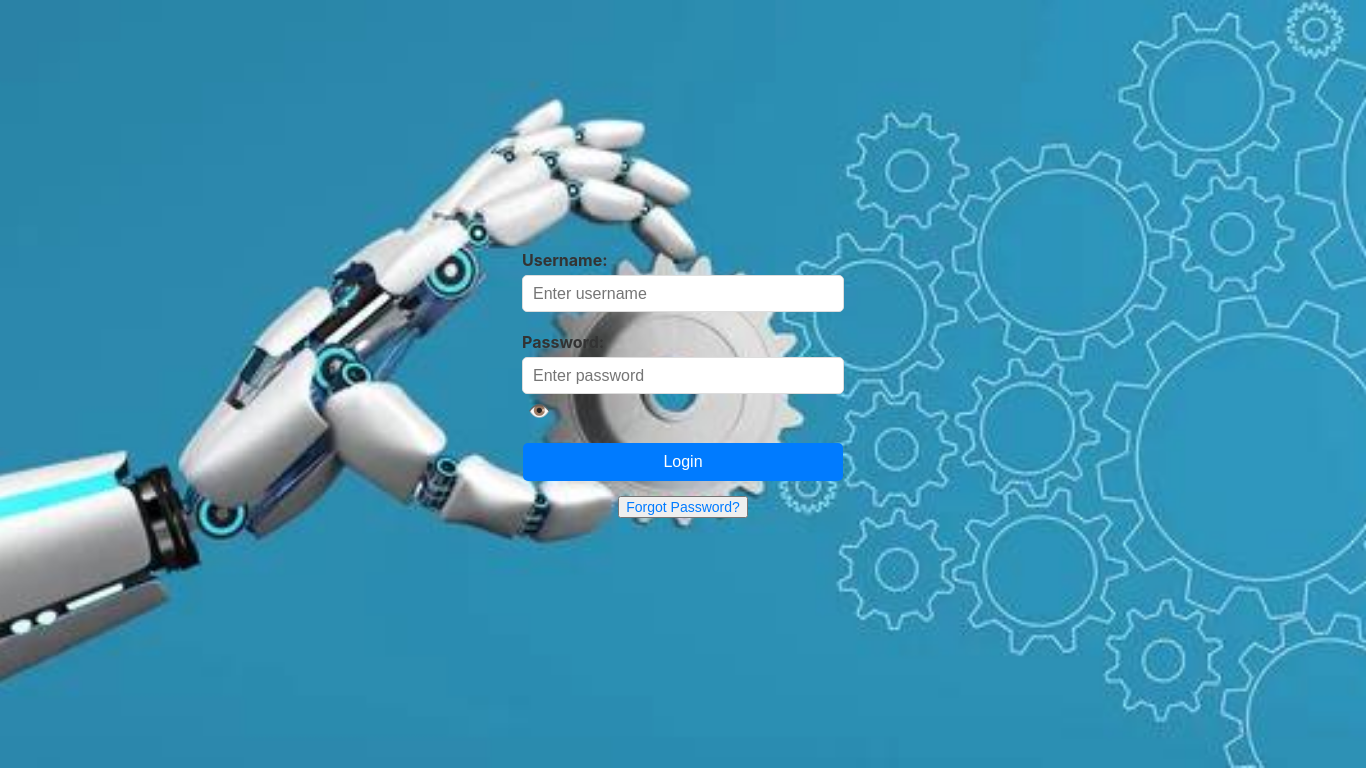
Test: Login Component › validates input fields are not empty
The image size is (1366, 768).
Step 1. Click the button "Login" → (683, 462), box [523,443,843,481]
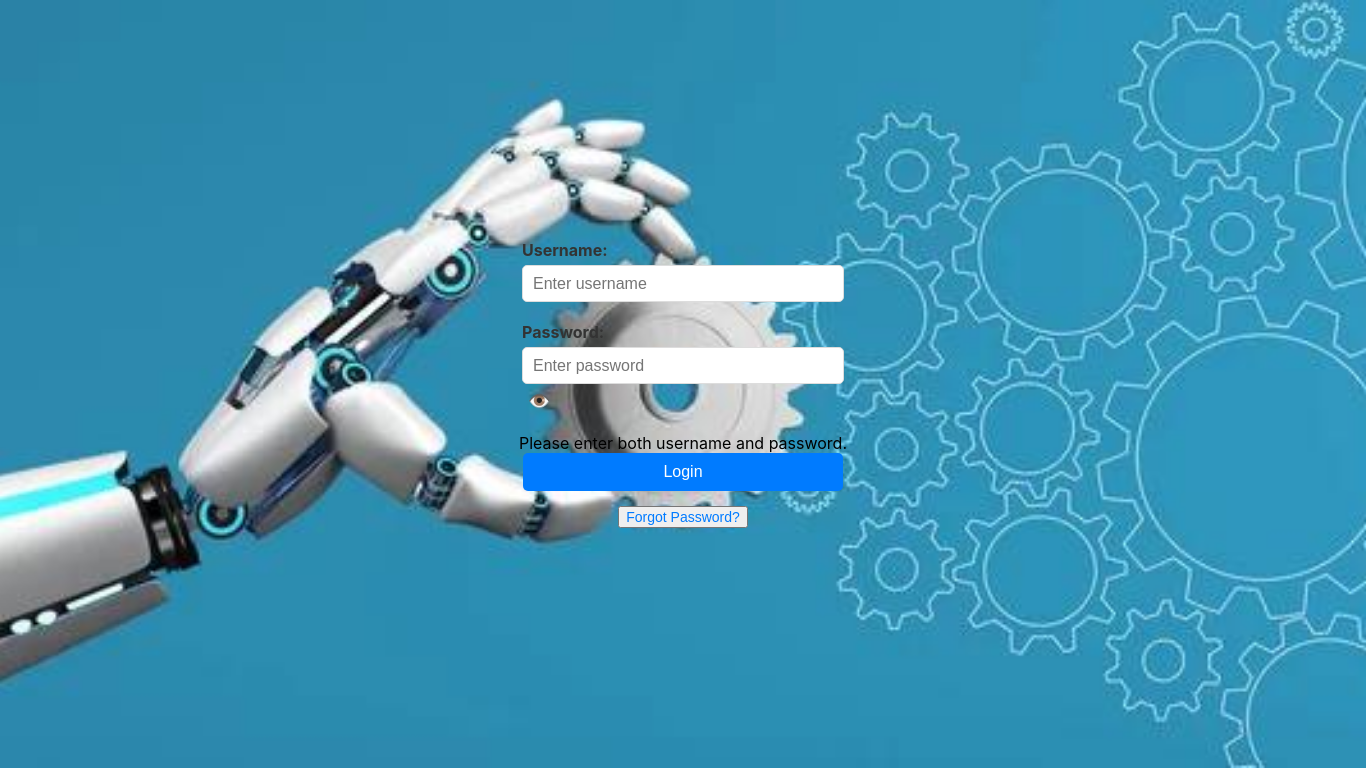
Expected: the text "Please enter both username and password." is shown, [519,433,847,453]
